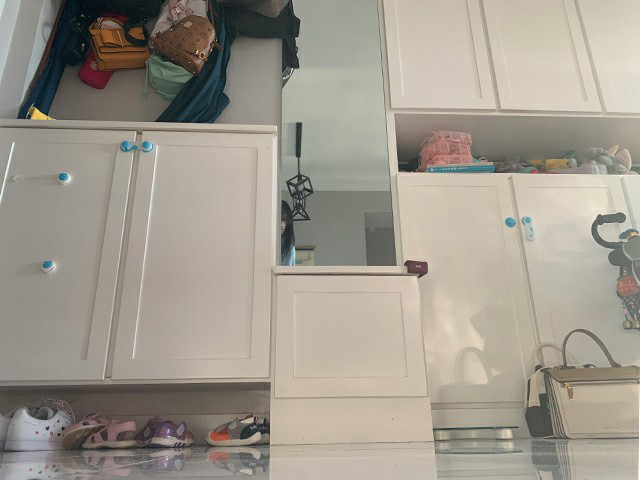cabinet: (391, 165, 640, 443), (271, 261, 433, 444)
